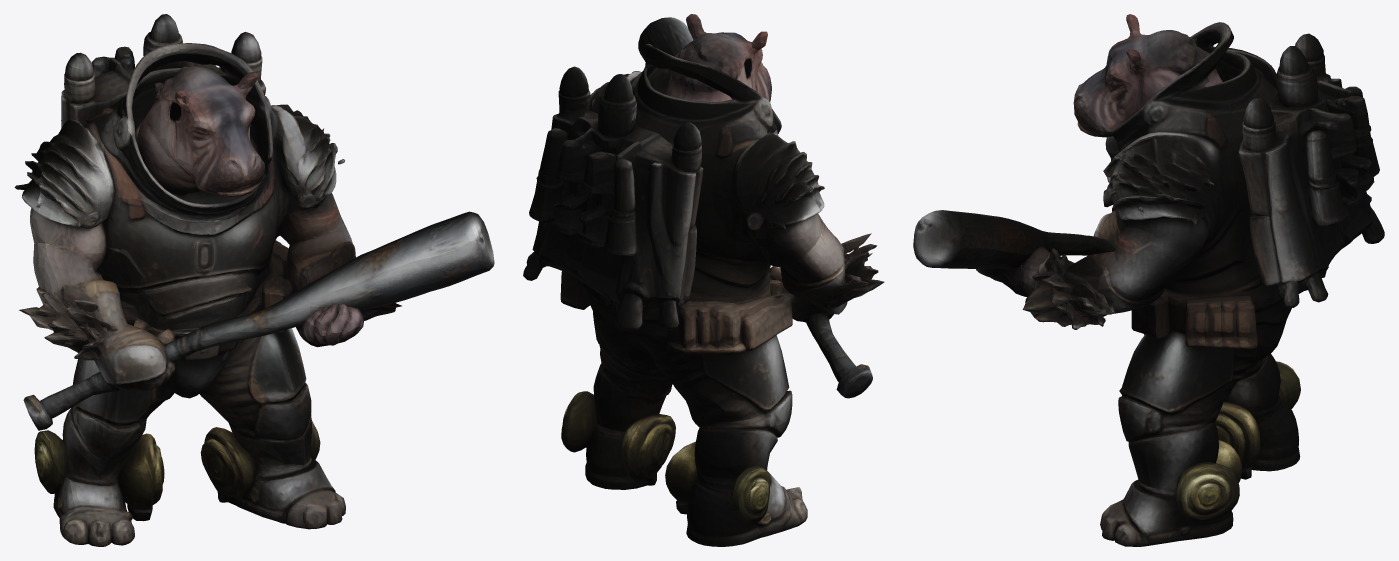
The model's file is giff-boomball.glb.
3 views of the same model, side by side, from view 1: azimuth 30°, elevation 25°; view 2: azimuth 150°, elevation 25°; view 3: azimuth 270°, elevation 25° (orthographic). The views are drawn at different scales.
Visible parts, largest first — view 1: world; view 2: world; view 3: world.
Part boxes in pixels (left/top/right/bottom): world: left=14, top=14, right=494, bottom=546; world: left=523, top=14, right=884, bottom=546; world: left=913, top=14, right=1384, bottom=546.
Bounding box in the file's own units: 0.8047 × 0.9997 × 0.9398.
Materials: 1 (1 with a texture image).
